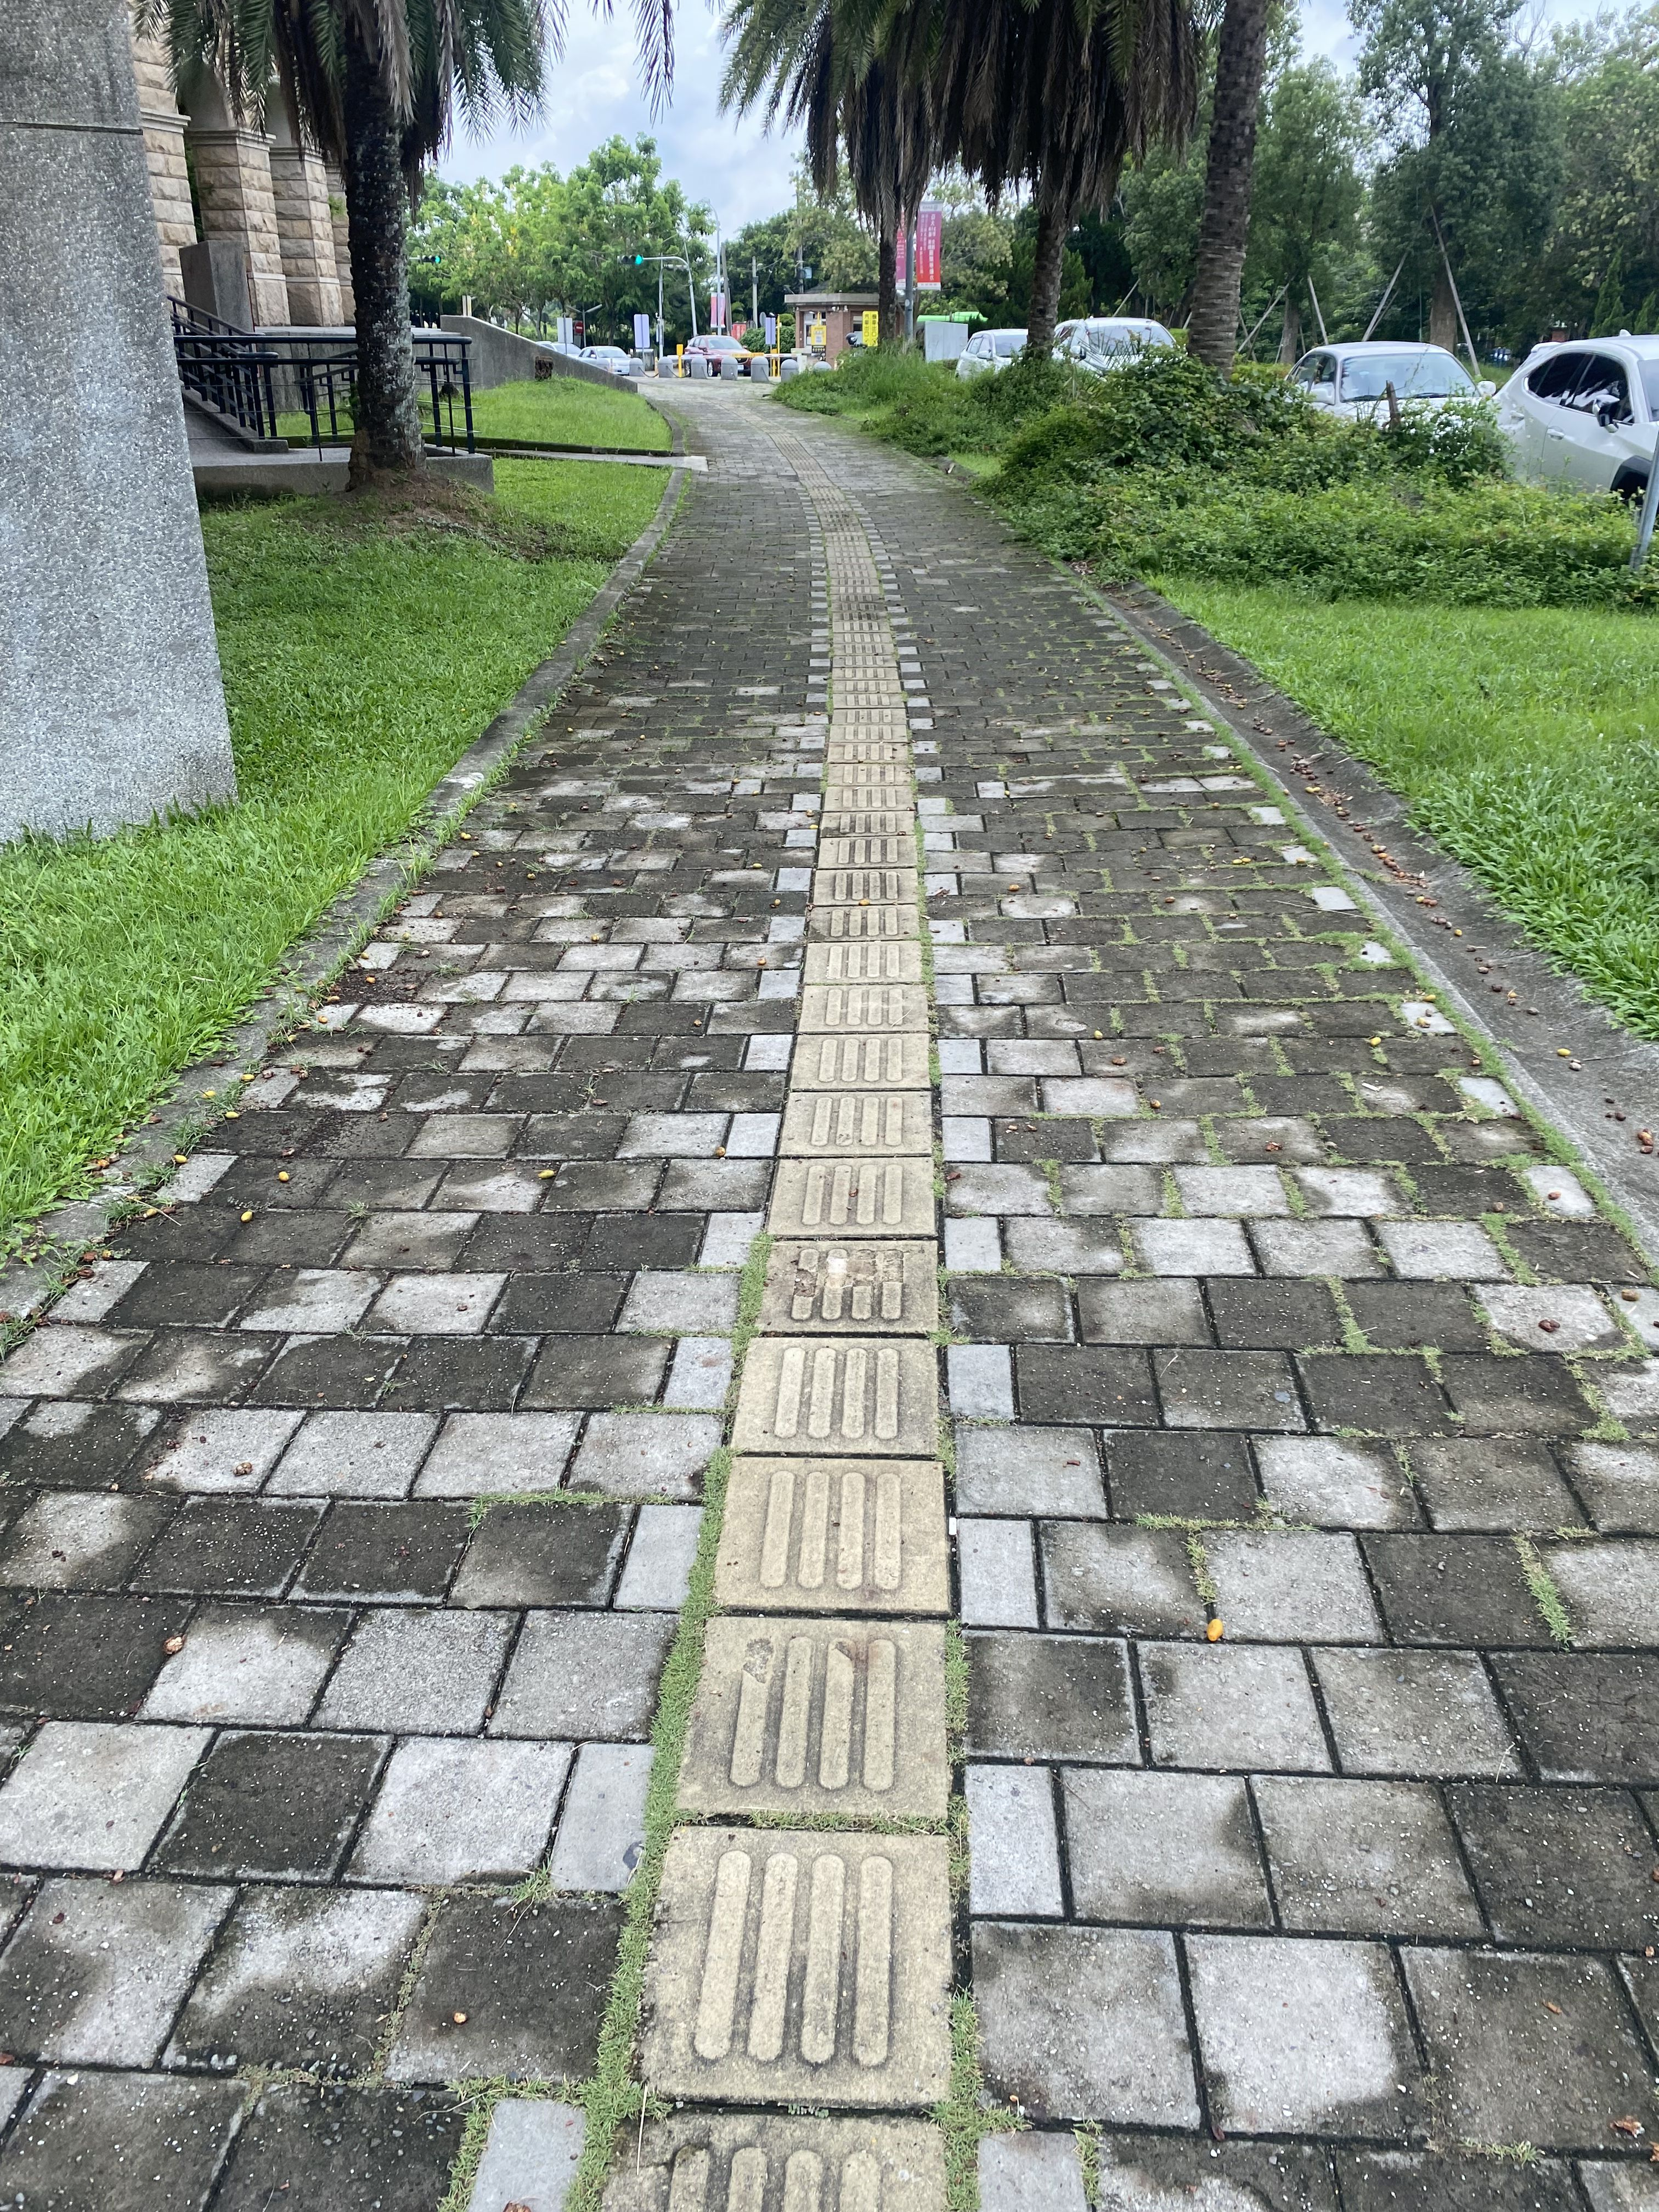0: (3, 869, 1659, 2212)
sidewalk: (387, 350, 1462, 1437)
